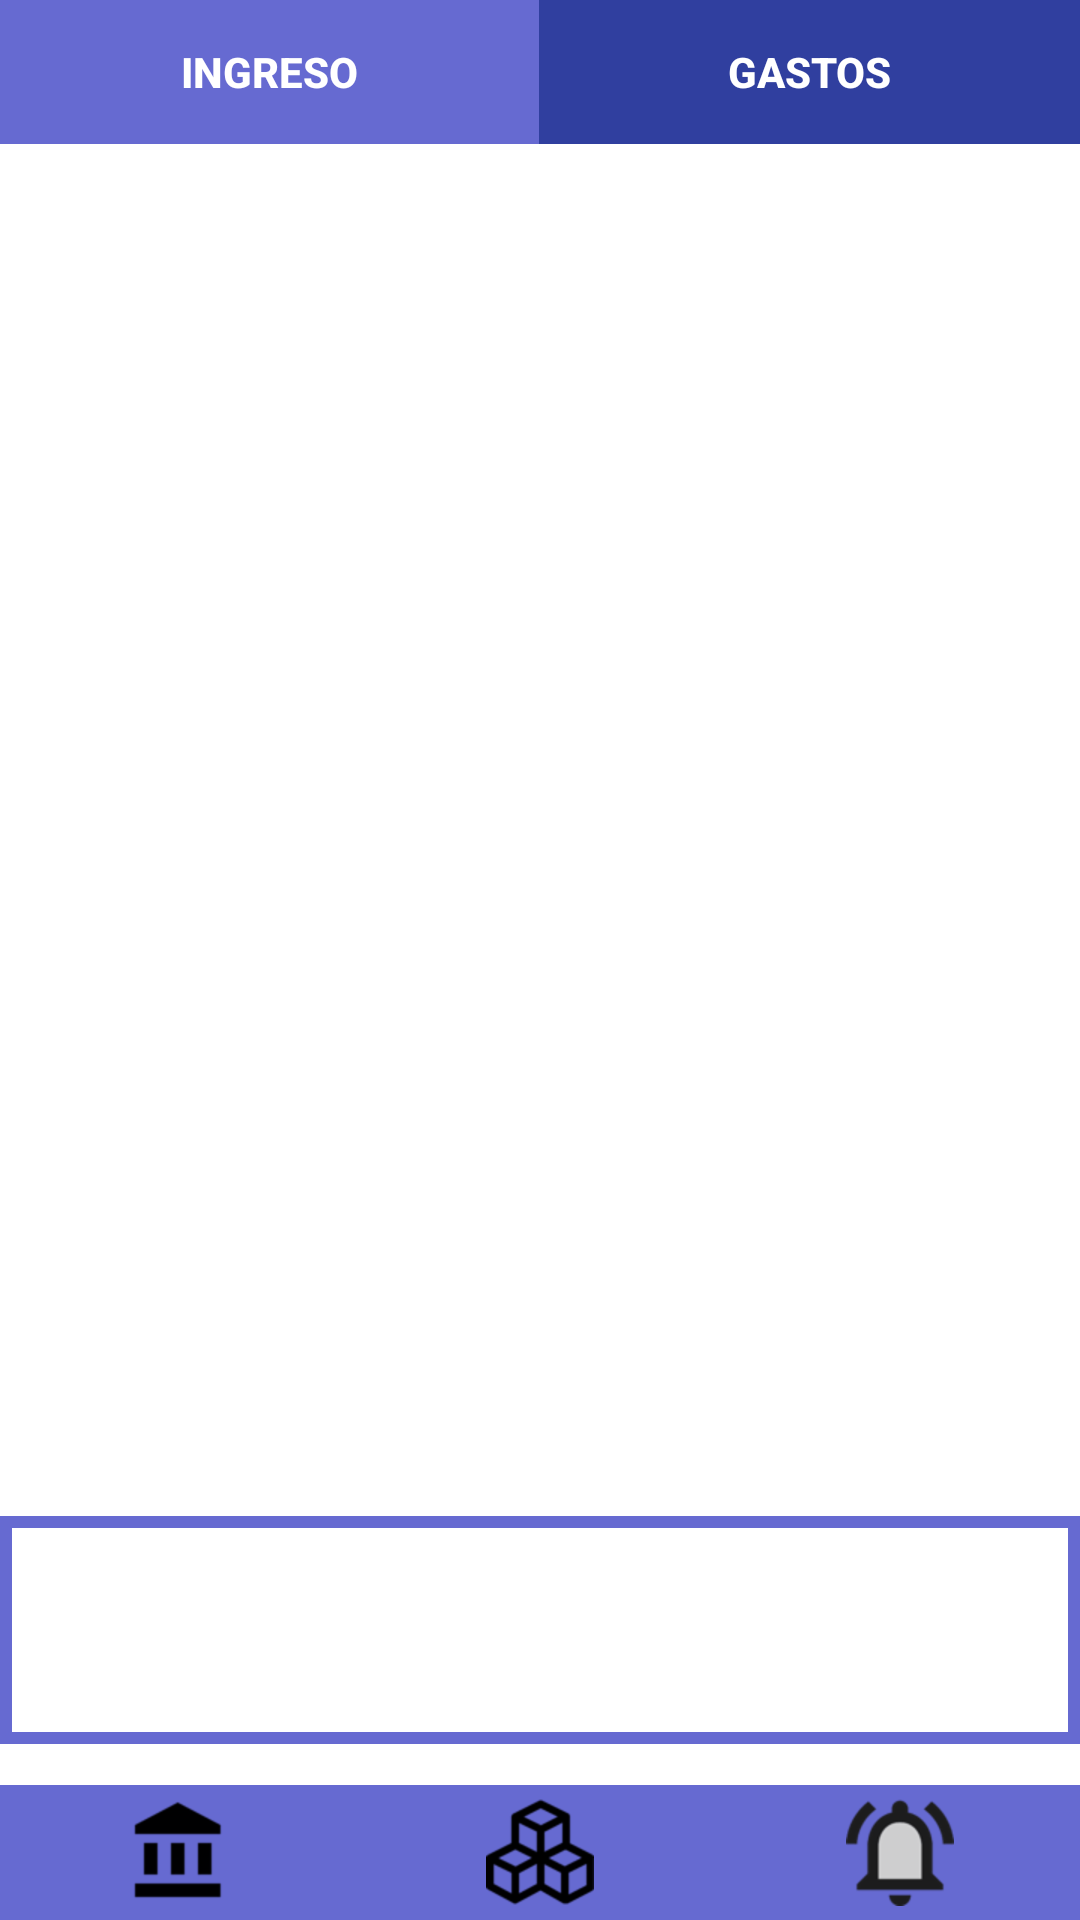

Locate icon controls on the screen. Image size 1080x1920, boxes as region(x1, y1, x2, y2).
balance: region(134, 1802, 221, 1898)
cajas: region(486, 1799, 594, 1905)
notificaciones: region(846, 1800, 954, 1906)
